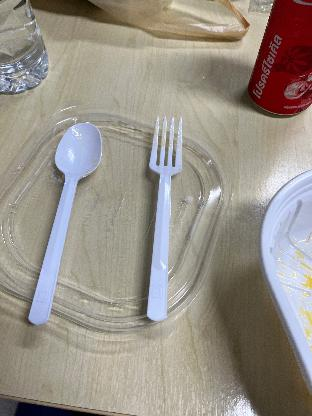Others: (24, 118, 109, 330), (146, 113, 186, 329)
